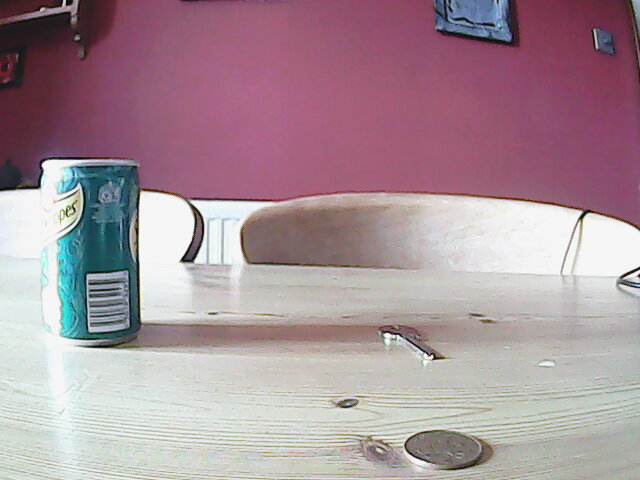Can: (35, 153, 143, 349)
Coin: (400, 429, 485, 471)
Key: (370, 322, 441, 363)
